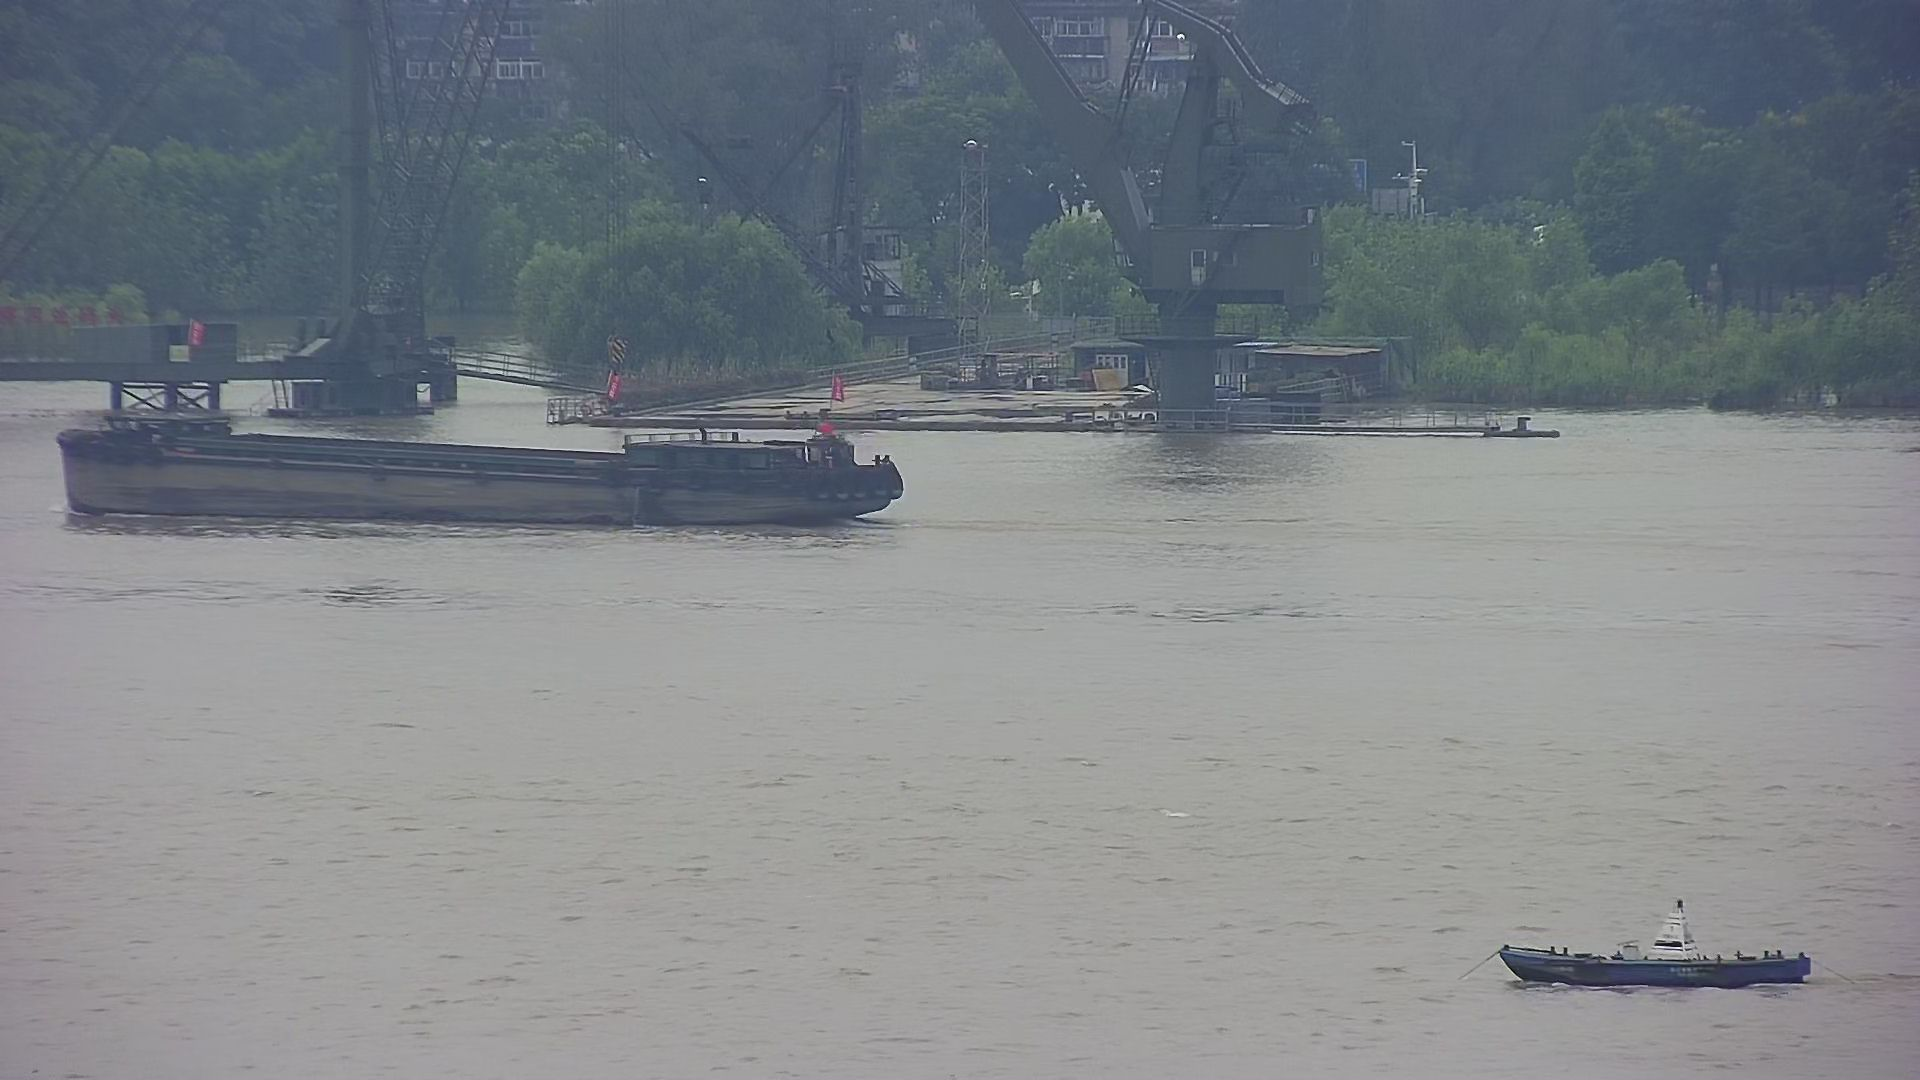boat: (1468, 876, 1837, 997)
platform: (1, 1, 502, 422)
ship: (44, 411, 926, 542)
